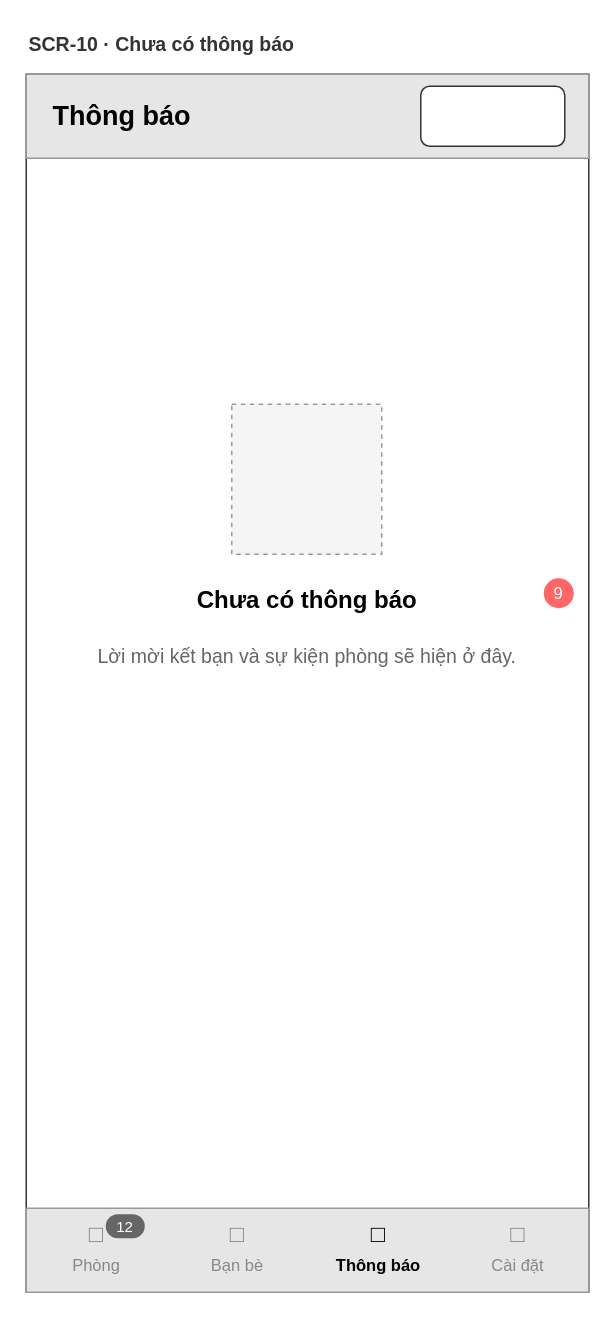
Some shapes in this 615 by 1319 pixel diagram are drawn without their labels. Here are the shapes that lost their labels. From the top down, the centre of each, then its label:
At (x=492, y=115): "Đọc tất cả".
At (x=306, y=478): "[Minh họa]".
